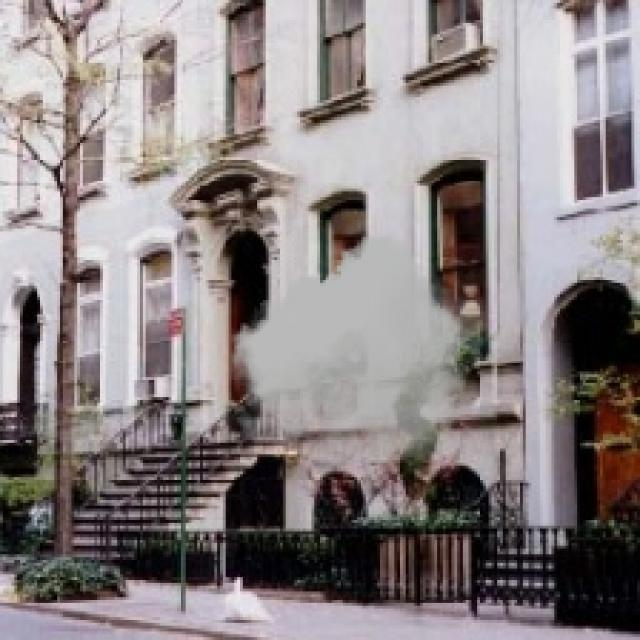Smoke: (226, 234, 497, 463)
